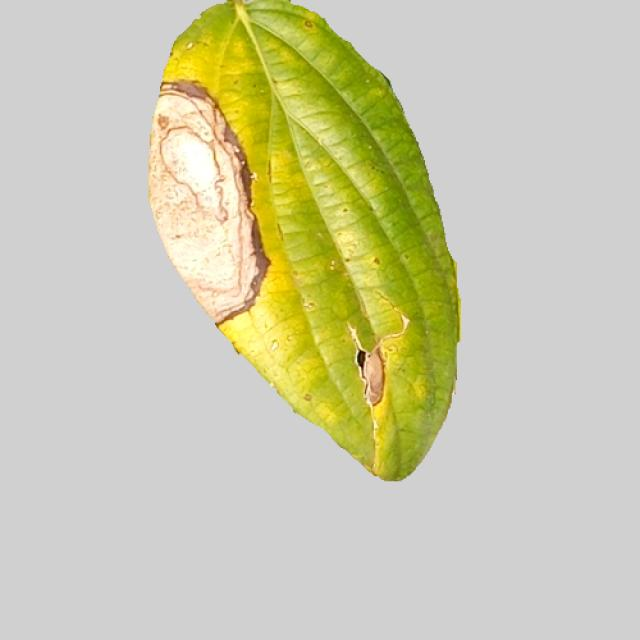leaf-blight: (124, 9, 466, 484)
